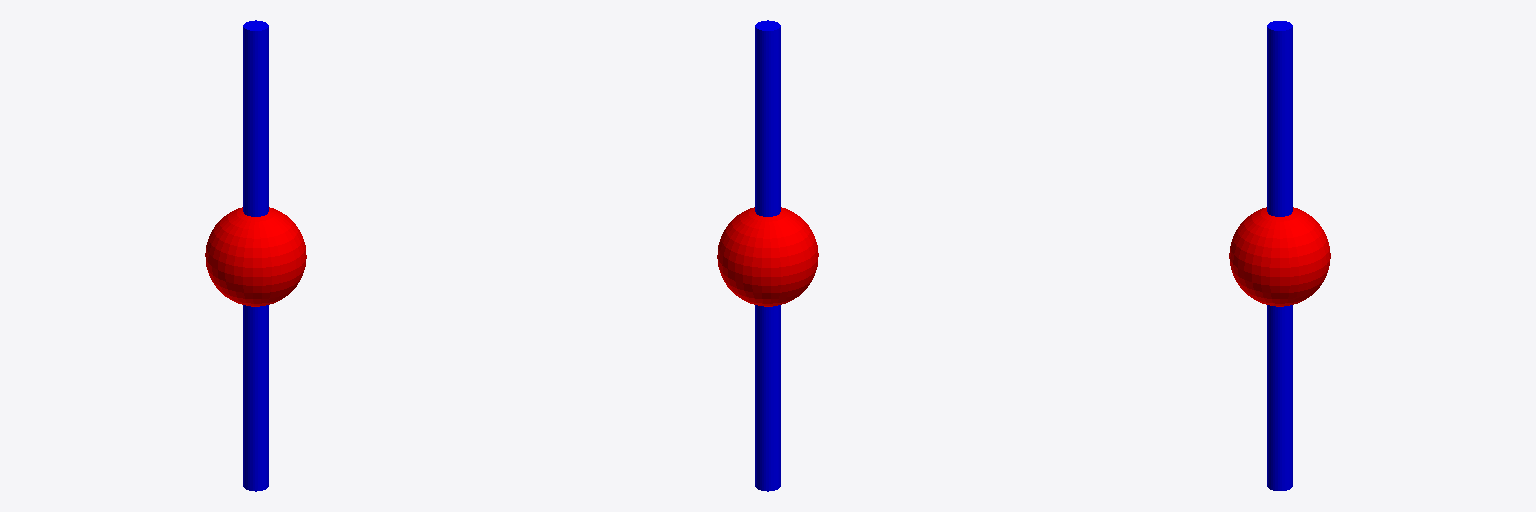
The robot description file, URDF, robot "3LinkThing":
<?xml version="1.0"?>

<robot name="3LinkThing">

  <link name="central_link">
    <inertial>
      <origin xyz="0 0 0" rpy="0 0 0" />
      <mass value="2" />
      <inertia ixx="2" ixy="0" ixz="0" iyy="2" iyz="0" izz="2" />
    </inertial>
    <visual>
      <geometry>
         <sphere radius=".2" />
      </geometry>
      <material name="red">
	<color rgba="1 0 0 1" />
      </material>
    </visual>
  </link>

  <link name="link1">
    <inertial>
      <origin xyz="0 0 .5" rpy="0 0 0" />
      <mass value="1" />
      <inertia ixx="1" ixy="0" ixz="0" iyy="1" iyz="0" izz="1" />
    </inertial>
    <visual>
      <origin xyz="0 0 .5" rpy="0 0 0" />
      <geometry>
         <cylinder length="1" radius=".05" />
      </geometry>
      <material name="blue">
	<color rgba="0 0 1 1" />
      </material>
    </visual>
  </link>

  <link name="link2">
    <inertial>
      <origin xyz="0 0 .5" rpy="0 0 0" />
      <mass value="1" />
      <inertia ixx="1" ixy="0" ixz="0" iyy="1" iyz="0" izz="1" />
    </inertial>
    <visual>
      <origin xyz="0 0 .5" rpy="0 0 0" />
      <geometry>
         <cylinder length="1" radius=".05" />
      </geometry>
      <material name="blue">
	<color rgba="0 0 1 1" />
      </material>
    </visual>
  </link>

  <link name="link3">
    <inertial>
      <origin xyz="0 0 .5" rpy="0 0 0" />
      <mass value="1" />
      <inertia ixx="1" ixy="0" ixz="0" iyy="1" iyz="0" izz="1" />
    </inertial>
    <visual>
      <origin xyz="0 0 .5" rpy="0 0 0" />
      <geometry>
         <cylinder length="1" radius=".05" />
      </geometry>
      <material name="blue">
	<color rgba="0 0 1 1" />
      </material>
    </visual>
  </link>



 <joint name="joint1" type="continuous">
    <parent link="link1" />
    <child link="central_link" />
    <origin xyz="0 0 1" />
    <axis xyz="0 1 0" />
    <dynamics damping="0.1" />
  </joint>
  
  <joint name="joint2" type="continuous">
    <parent link="central_link" />
    <child link="link2" />
    <origin xyz="0 0 0" />
    <axis xyz="0 1 0" />
    <dynamics damping="0.1" />
  </joint>

  <joint name="joint3" type="continuous">
    <parent link="central_link" />
    <child link="link3" />
    <origin xyz="0 0 0" />
    <axis xyz="0 1 0" />
    <dynamics damping="0.1" />
  </joint>



  <transmission type="SimpleTransmission" name="link1_trans">
    <actuator name="link1_torque" />
    <joint name="joint1" />
    <mechanicalReduction>1</mechanicalReduction>
  </transmission>

 <transmission type="SimpleTransmission" name="link2_trans">
    <actuator name="link2_torque" />
    <joint name="joint2" />
    <mechanicalReduction>1</mechanicalReduction>
  </transmission>

 <transmission type="SimpleTransmission" name="link3_trans">
    <actuator name="link3_torque" />
    <joint name="joint3" />
    <mechanicalReduction>1</mechanicalReduction>
  </transmission>



</robot>

--- Render facts (derived) ---
3 views of the same robot in one strip: view 1: azimuth 30°, elevation 25°; view 2: azimuth 150°, elevation 25°; view 3: azimuth 270°, elevation 25° (orthographic).
Model 3LinkThing with 4 links and 3 joints (3 continuous), rooted at link1, posed every joint at zero.
Links seen in each view (by area): view 1: central_link, link2, link1; view 2: central_link, link2, link1; view 3: central_link, link2, link1.
Boxes of the visible links, bbox=[...] form: central_link: bbox=[205, 207, 306, 306]; link2: bbox=[243, 20, 268, 216]; link1: bbox=[243, 305, 268, 491]; central_link: bbox=[717, 207, 818, 306]; link2: bbox=[755, 20, 780, 216]; link1: bbox=[755, 305, 780, 491]; central_link: bbox=[1229, 207, 1330, 306]; link2: bbox=[1267, 21, 1292, 216]; link1: bbox=[1267, 305, 1292, 490].
Size in the robot's own frame: 0.4 by 0.4 by 2 metres.
Geometry: primitives only (box / cylinder / sphere), no mesh files.